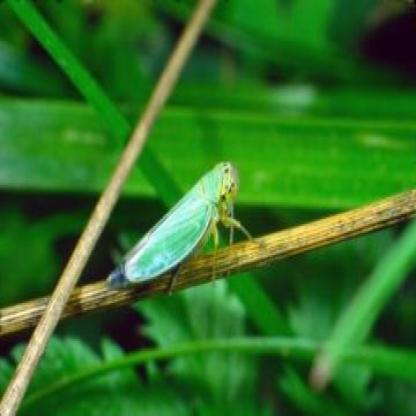Green-Leafhopper: (111, 158, 258, 292)
